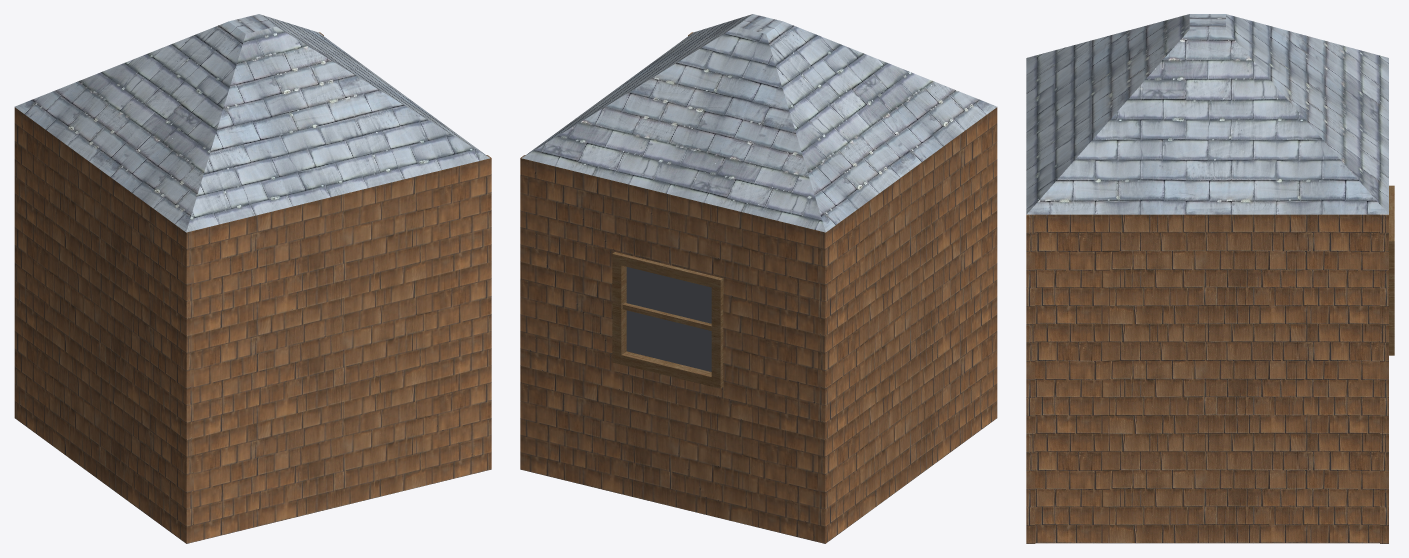
File: house_woodside.glb
3 renders of one model, left to right at view 1: azimuth 30°, elevation 25°; view 2: azimuth 150°, elevation 25°; view 3: azimuth 270°, elevation 25°, orthographic. The views are drawn at different scales.
Parts seen in each view (by area): view 1: Prop.house_woodside; view 2: Prop.house_woodside; view 3: Prop.house_woodside.
Part boxes in pixels (box(x1,y1,x2,y2)): Prop.house_woodside: box(14, 14, 491, 543); Prop.house_woodside: box(520, 14, 997, 543); Prop.house_woodside: box(1026, 14, 1394, 543).
Bounding box in the file's own units: 6.78 × 8.9 × 6.7.
4 materials, 3 textured.
